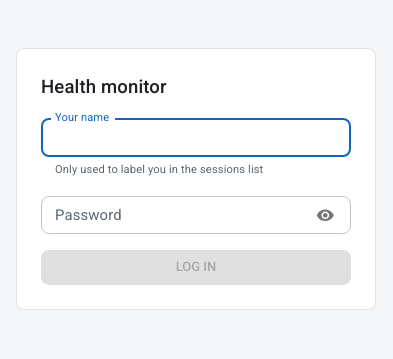
Test: LoginGate › says so when the password is wrong
This screenshot has width=393, height=359.
Type "nope" into the password field labelled "Password" at (172, 215), box [41,196,303,234]
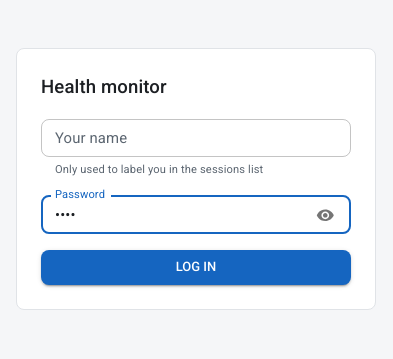
Click the button "Log in" at (196, 268), box [41,250,351,285]
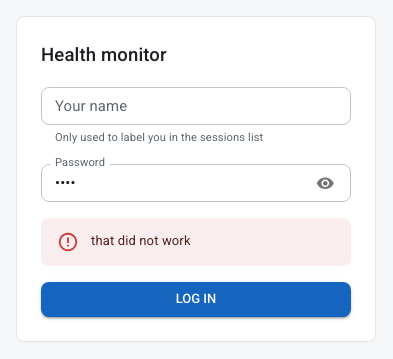
Now the text "that did not work" is shown, box [91,233,191,248]
